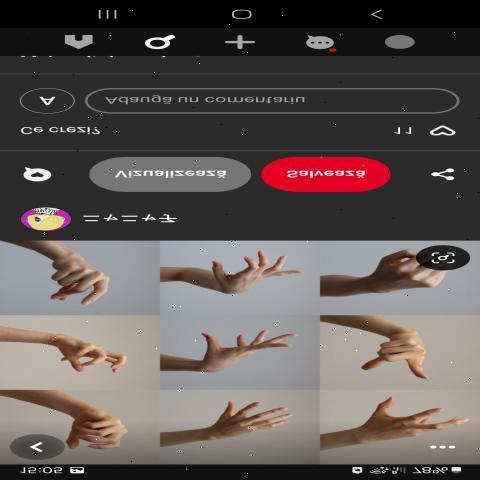Hands: (168, 317, 303, 386), (343, 373, 445, 451), (174, 247, 313, 303), (183, 394, 307, 450), (356, 316, 444, 386), (47, 334, 145, 379)
